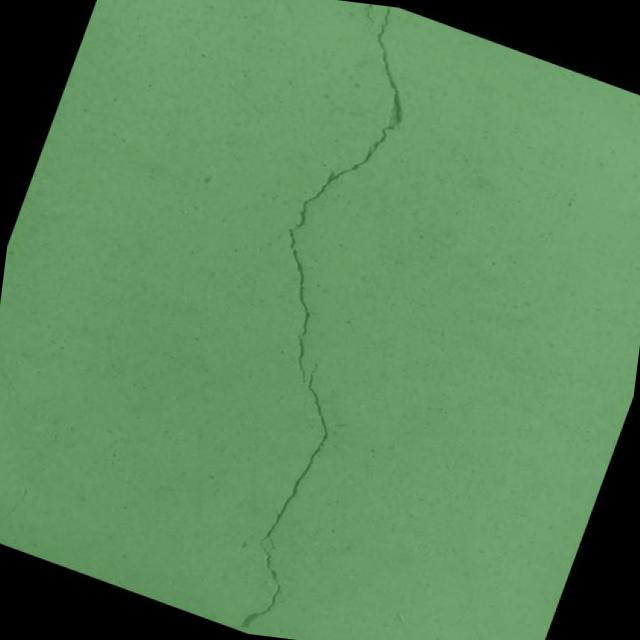crack: (145, 0, 490, 640)
